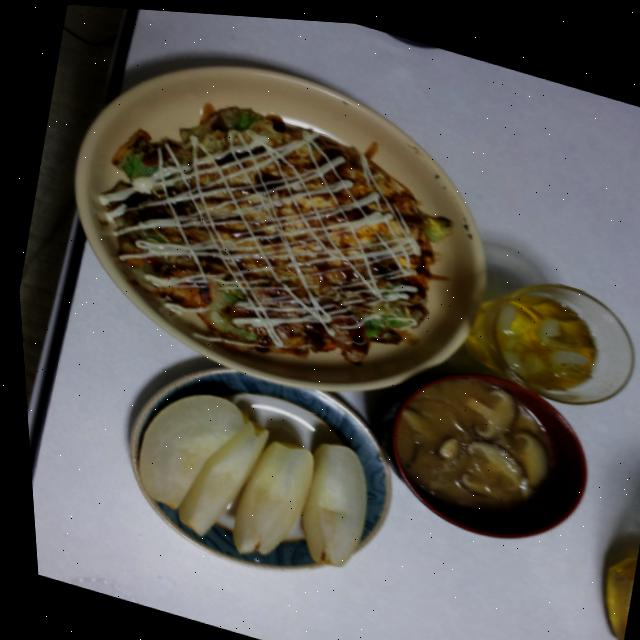汤锅炖物: (362, 343, 609, 566)
蛋糕甜品: (22, 4, 530, 442)
